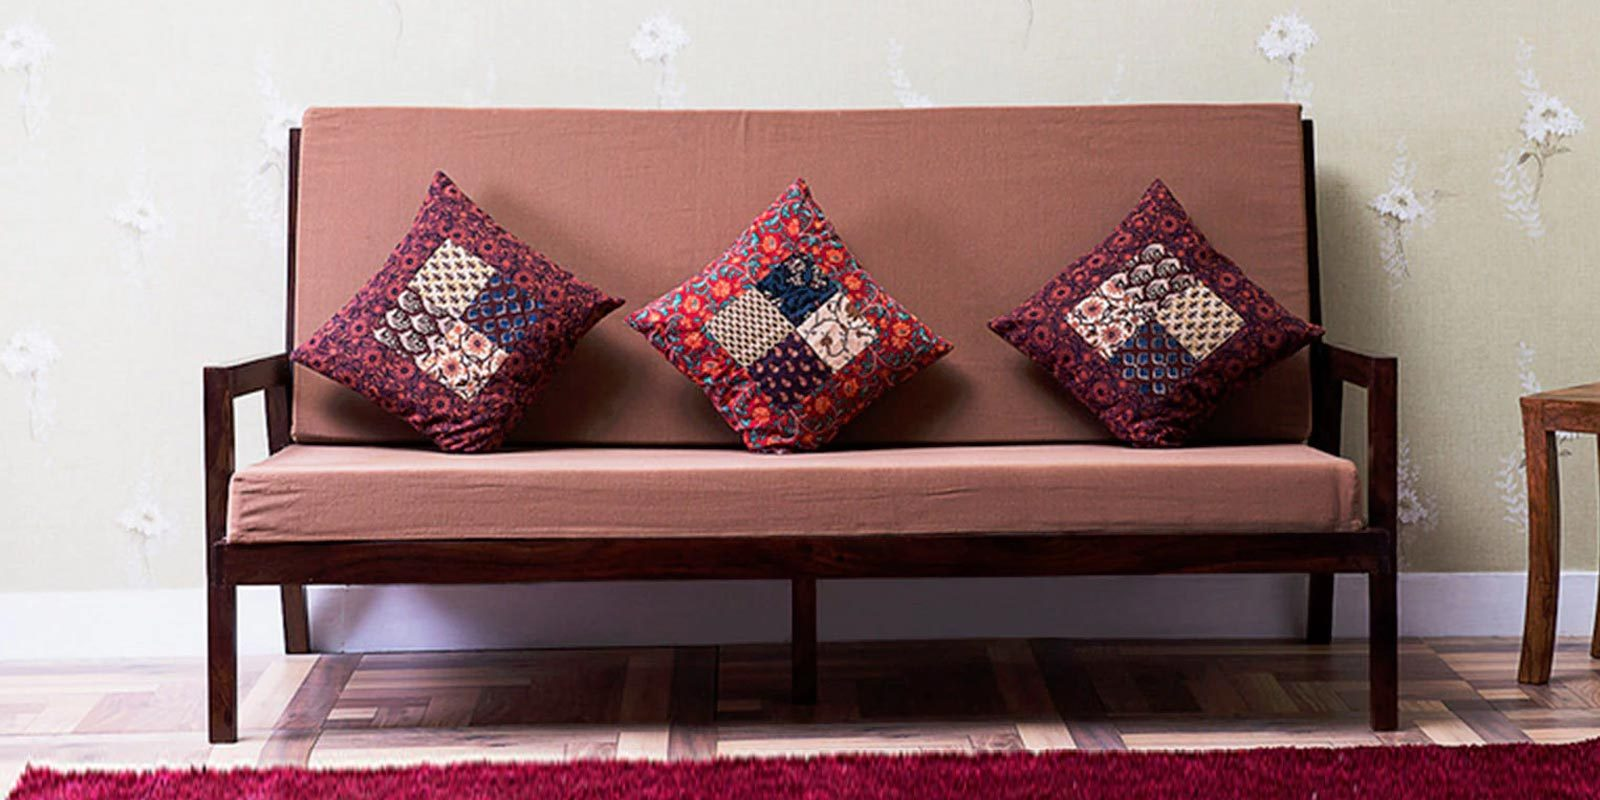Kennewick Three Seater Sofa in Provincial Teak Finish By WoodsWorth: (204, 100, 1398, 745)
